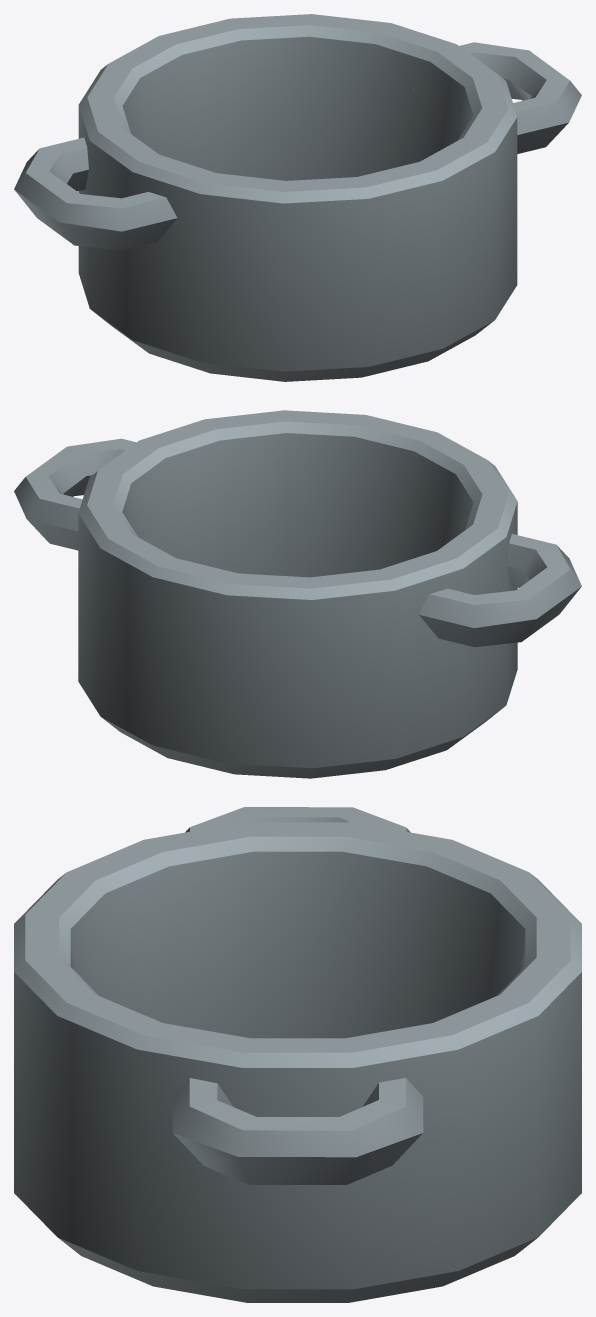
The model's file is Pot A.glb.
The picture shows the model from 3 angles, top to bottom: view 1: azimuth 30°, elevation 25°; view 2: azimuth 150°, elevation 25°; view 3: azimuth 270°, elevation 25°; orthographic projection. The views are drawn at different scales.
Visible parts, largest first — view 1: pot_A; view 2: pot_A; view 3: pot_A.
Part boxes in pixels (x1,y1,x2,y2): pot_A: (14, 14, 581, 381); pot_A: (14, 410, 581, 778); pot_A: (14, 807, 581, 1302).
Bounding box in the file's own units: 1.4 × 0.5 × 1.
Materials: 1 (1 with a texture image).
